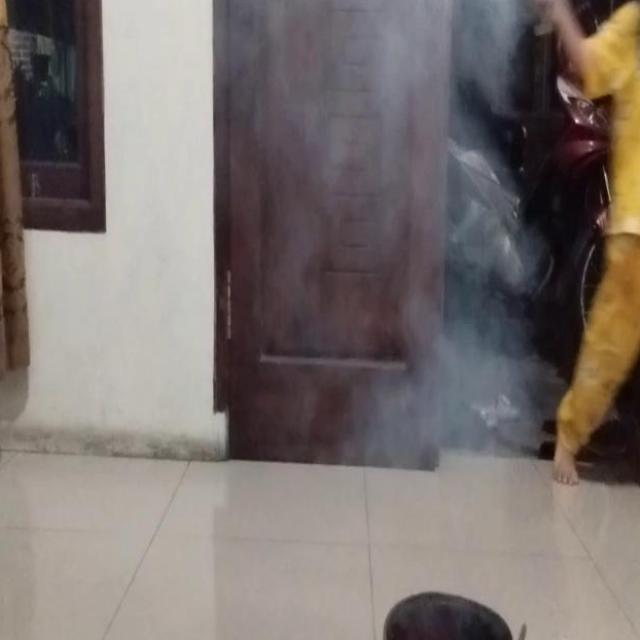fire: (214, 0, 517, 471)
